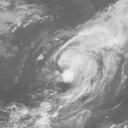cyclone: (51, 38, 110, 95)
